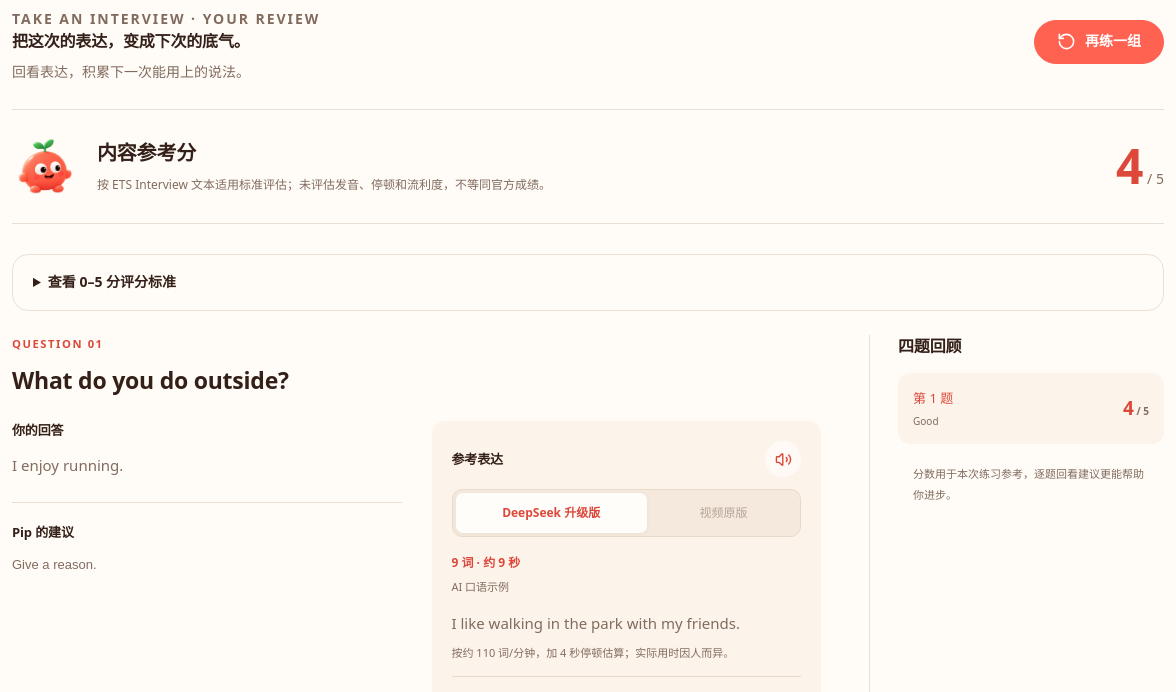
Scenario: shows the new five-point content rubric without claiming audio or official bands
This screenshot has width=1176, height=692.
Expected: the heading "内容参考分" is shown, x1=97 y1=139 x2=196 y2=166
Expected: the text "/ 5" is shown 2 times, x1=1144 y1=170 x2=1164 y2=188; x1=1134 y1=404 x2=1149 y2=418
Click the heading "查看 0–5 分评分标准". click: x=112, y=282
box: x1=48 y1=272 x2=176 y2=291
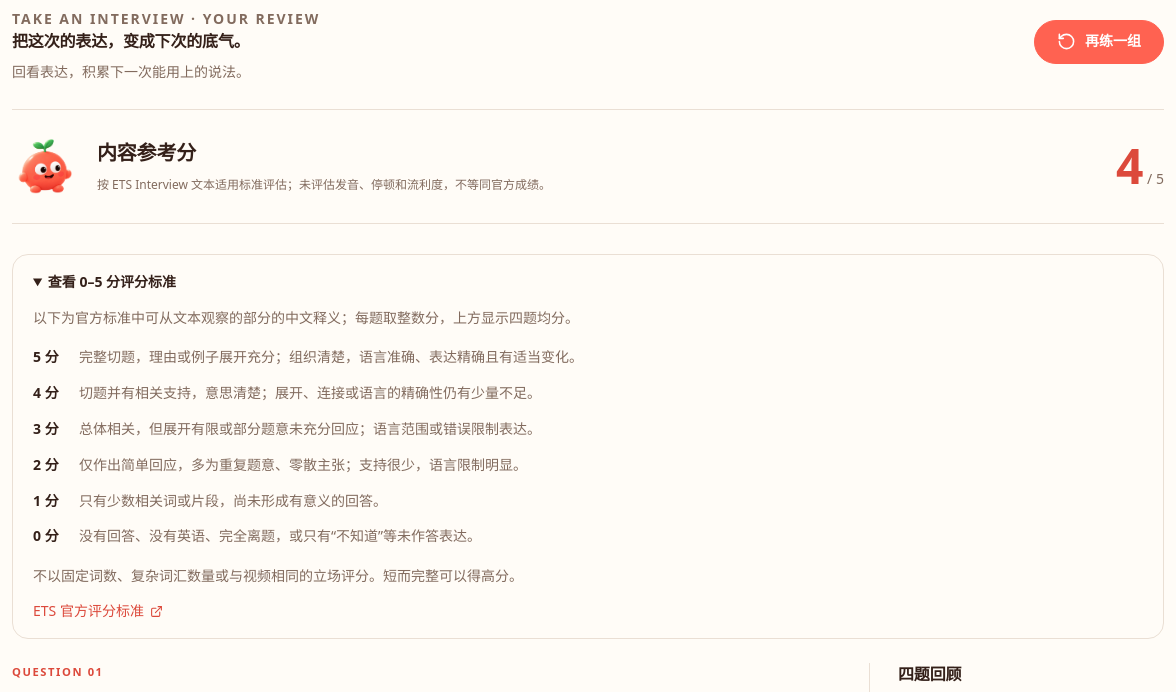
Expected: the text "按 ETS Interview 文本适用标准评估；未评估发音、停顿和流利度，不等同官方成绩。" is shown, x1=97 y1=175 x2=551 y2=194
Expected: the text "5 分" is shown, x1=33 y1=347 x2=59 y2=366
